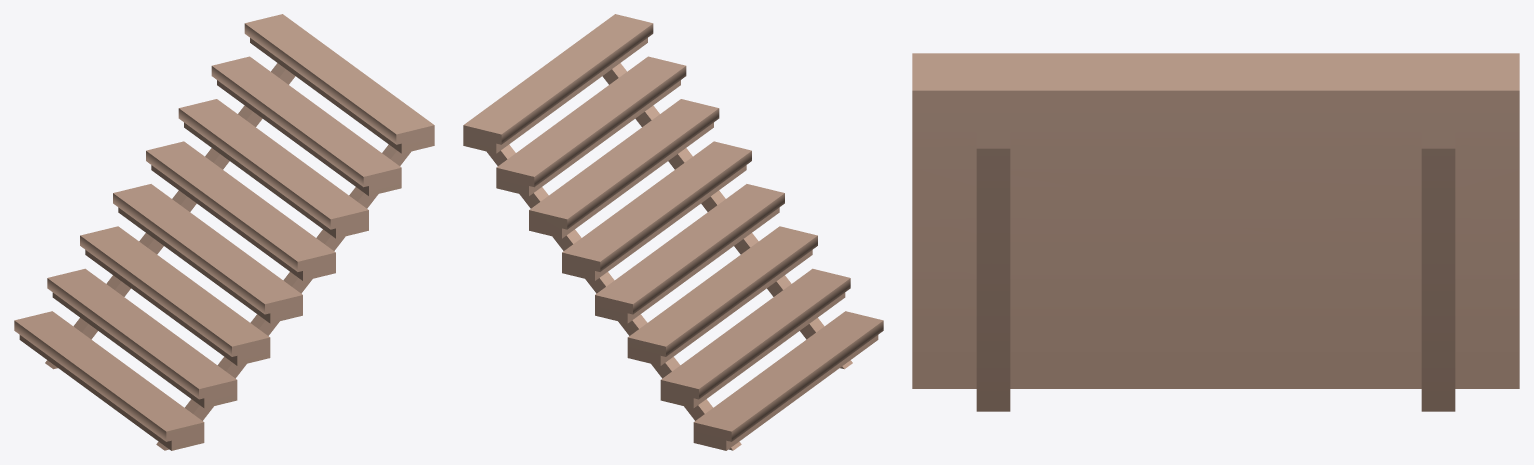
The model's file is stairs-wide-wood.glb.
The picture shows the model from 3 angles, left to right: view 1: azimuth 30°, elevation 25°; view 2: azimuth 150°, elevation 25°; view 3: azimuth 270°, elevation 25°; orthographic projection. The views are drawn at different scales.
Parts seen in each view (by area): view 1: stairs-wide-wood; view 2: stairs-wide-wood; view 3: stairs-wide-wood.
Part boxes in pixels (x1,y1,x2,y2): stairs-wide-wood: [14, 14, 434, 450]; stairs-wide-wood: [463, 14, 883, 450]; stairs-wide-wood: [912, 53, 1519, 411].
Size of the model in its own units: 1.02 by 1 by 1.
